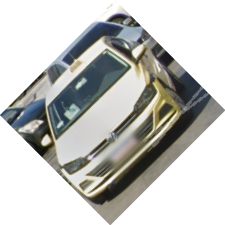car: (44, 34, 190, 202)
